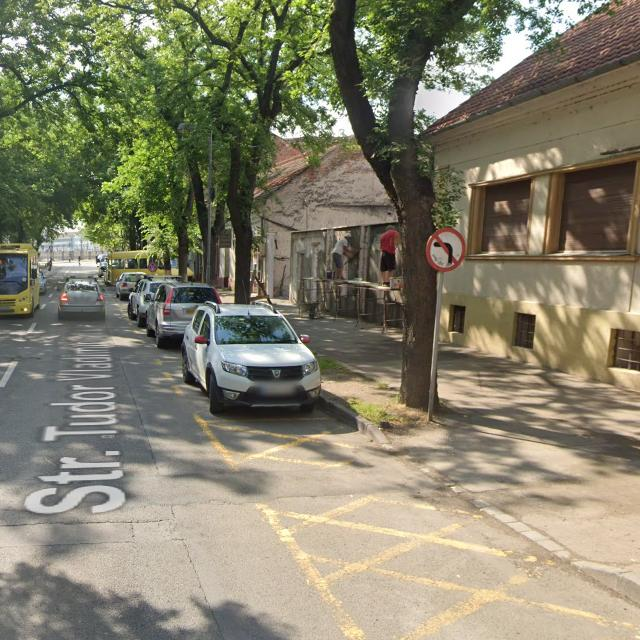forb_left: (426, 227, 467, 272)
